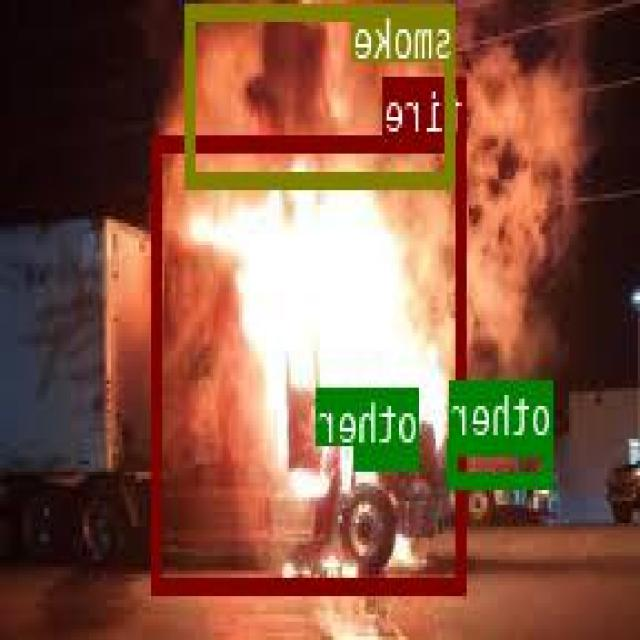fire: (155, 134, 469, 590)
other: (450, 436, 554, 484), (357, 446, 422, 466)
smoke: (187, 2, 456, 184)
